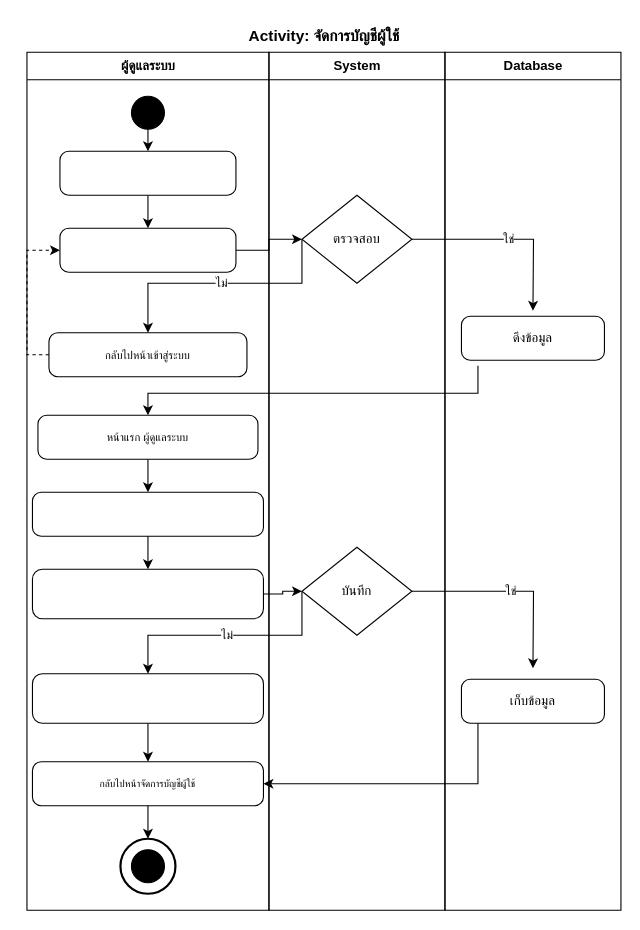
Image size: 640x930. Some labels were removed from this diagram. Here are the shapes that lost their labels. From the top down, the centre of each, then its label:
point (147, 172): หน้าแรก
point (147, 249): เข้าสู่ระบบ
point (147, 513): เลือกเมนูจัดการบัญชีผู้ใช้
point (147, 593): เลือกผู้ใช้/กำหนดสิทธิ์
point (147, 698): หากไม่สามารถกำหนดสิทธิ์ได้ ระบบจะแจ้งเตือน
